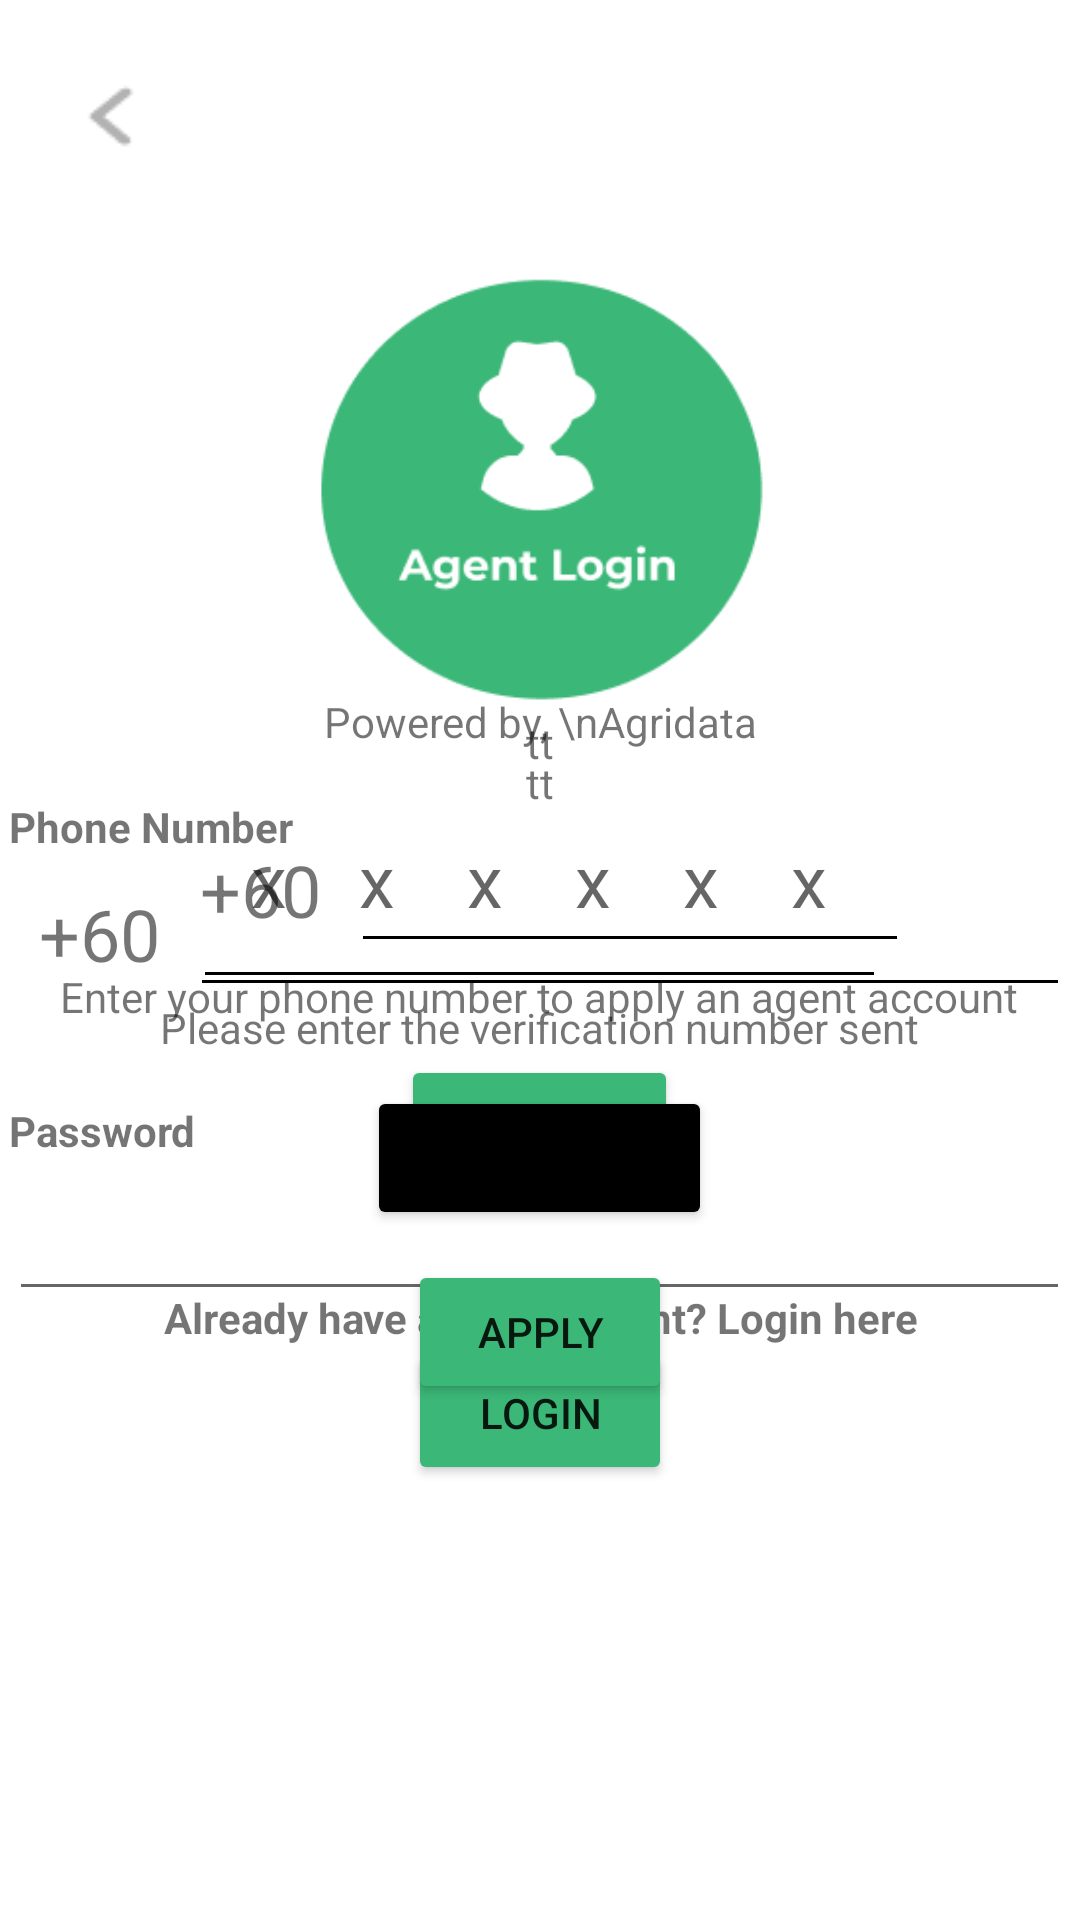

Icons on this 1080w x 1920h Android screen, each with its box as [x1,y1,x2,y2]:
back: [90,88,132,145]
